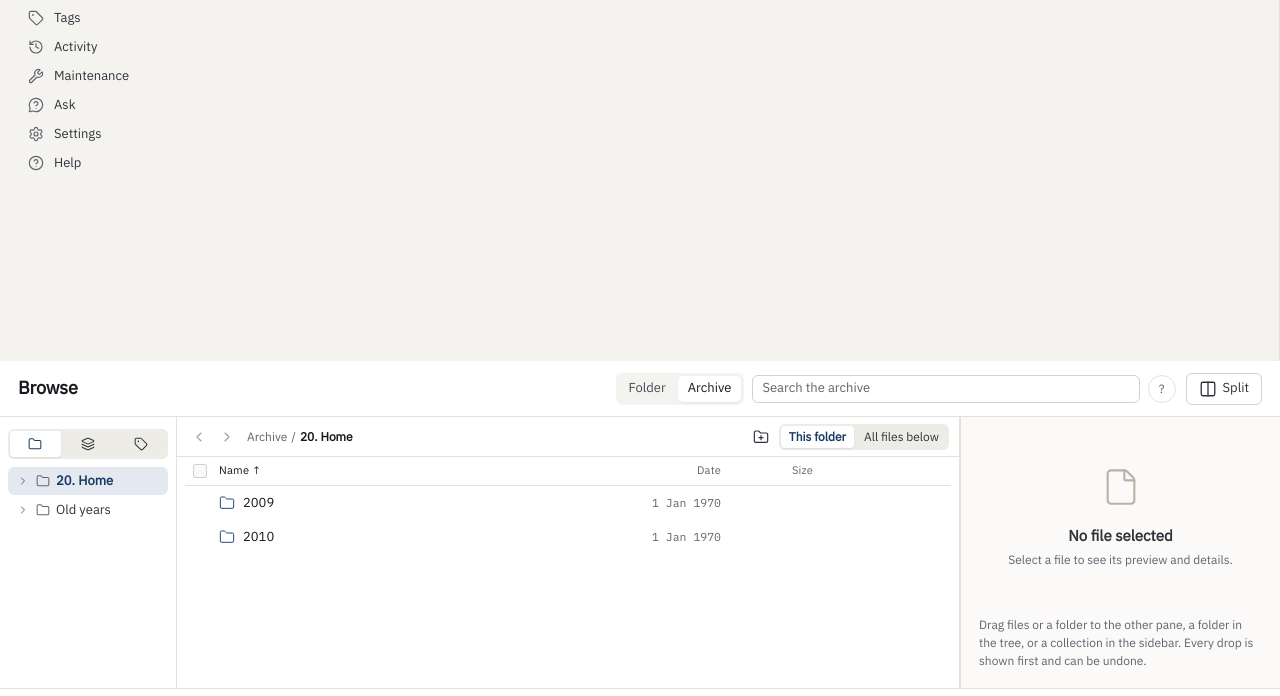
Scenario: moving a folder in Browse › the folder's panel has Rename…: it previews what follows and renames the folder in place
(page scrolled)
Expected: the text "2009" is shown, [243,494,274,512]
Press Arrowdown
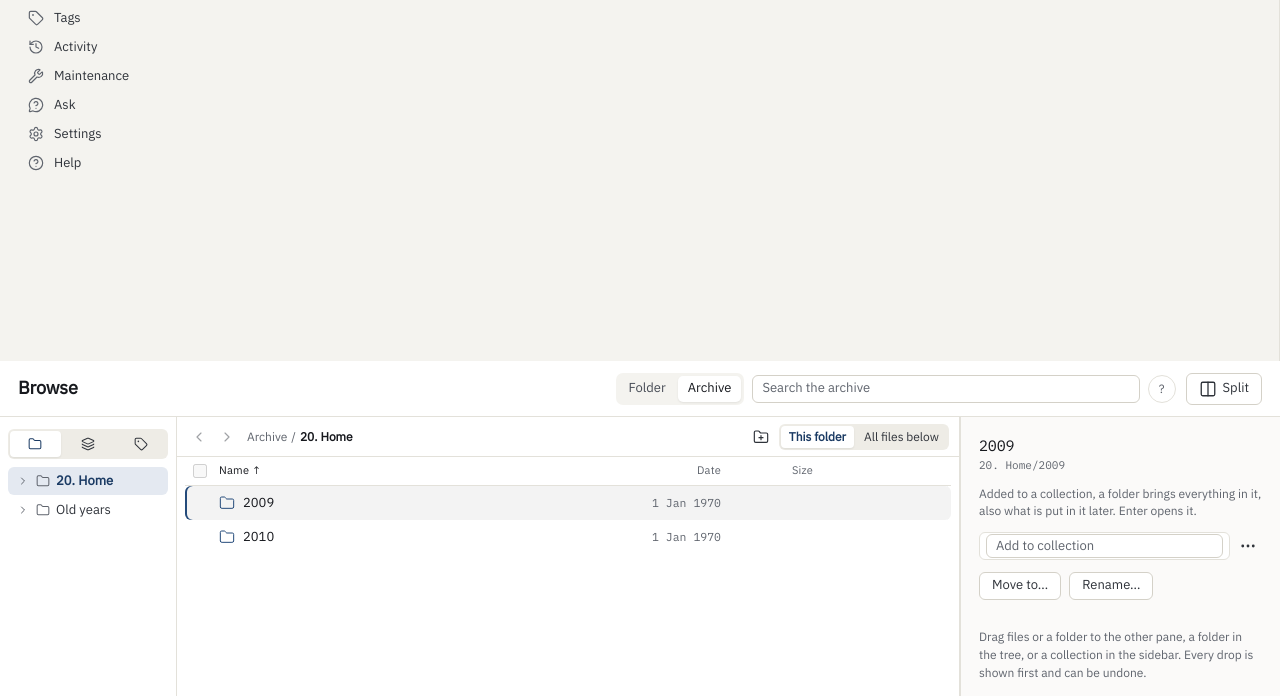
Click the button "Rename…" at (1111, 586), box [1069,572,1154,600]
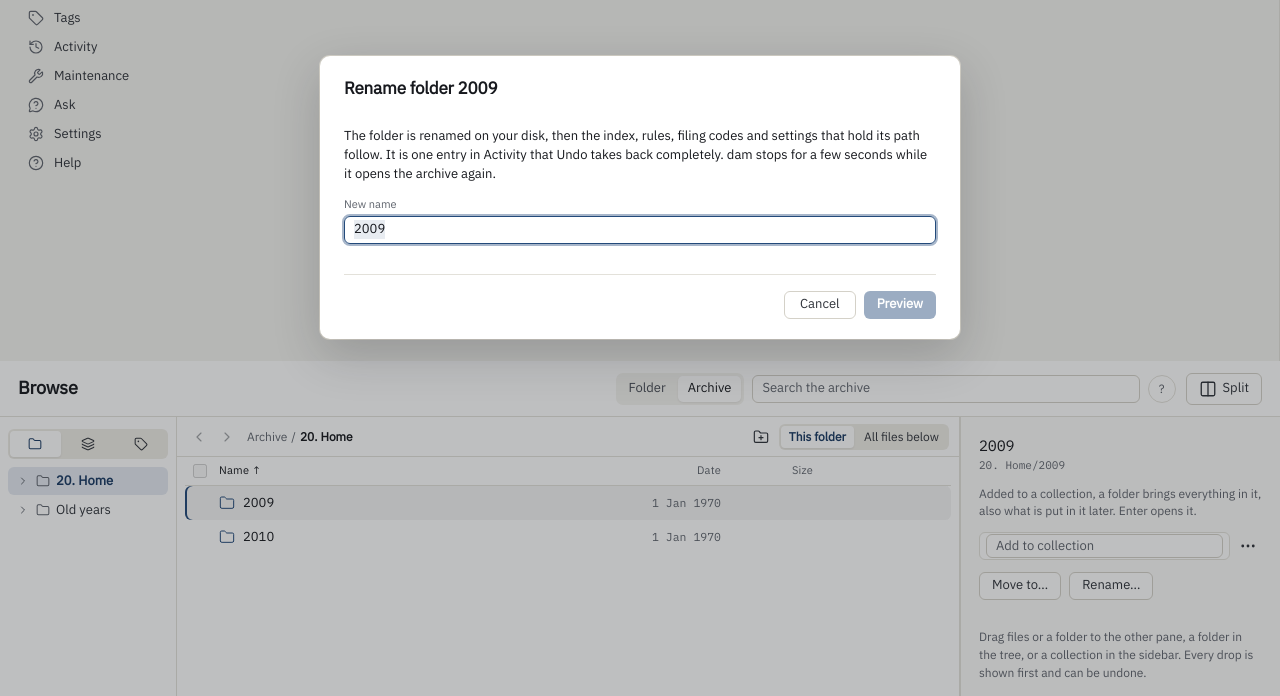
Replace the text in the field labelled "New name" with "2010" at (640, 230), box [344,216,936,244]
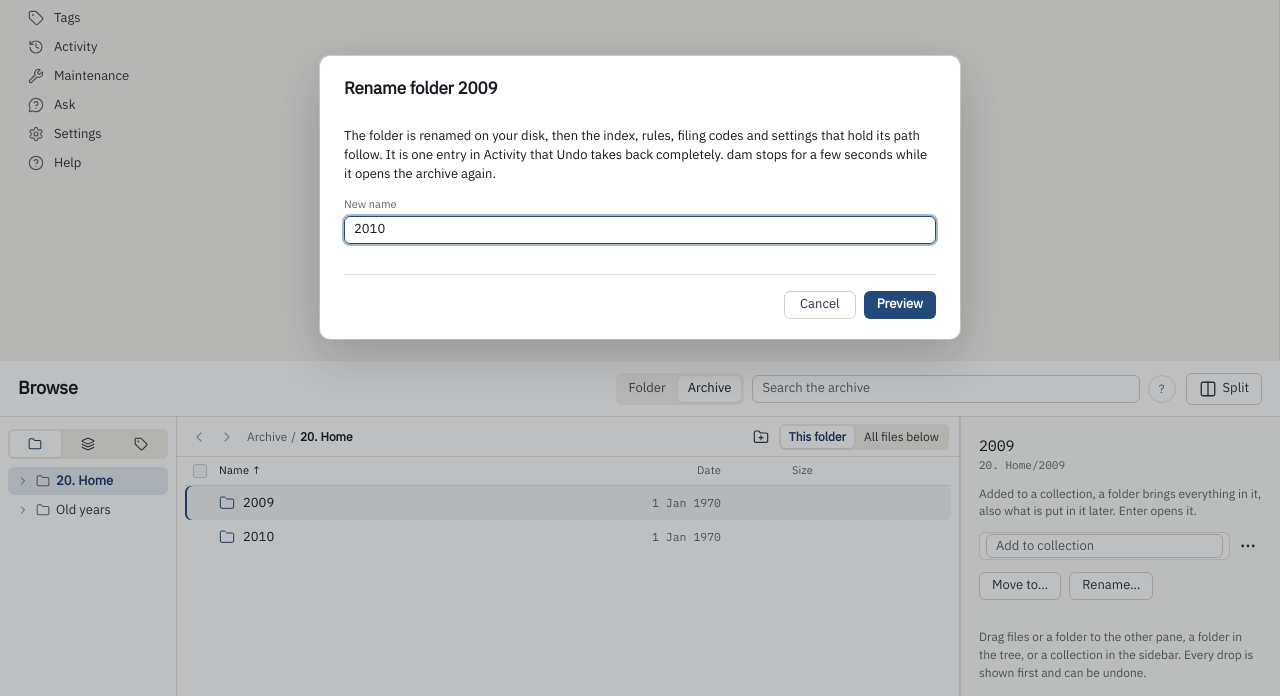
Click the button "Preview" at (900, 305), box [864,291,936,319]
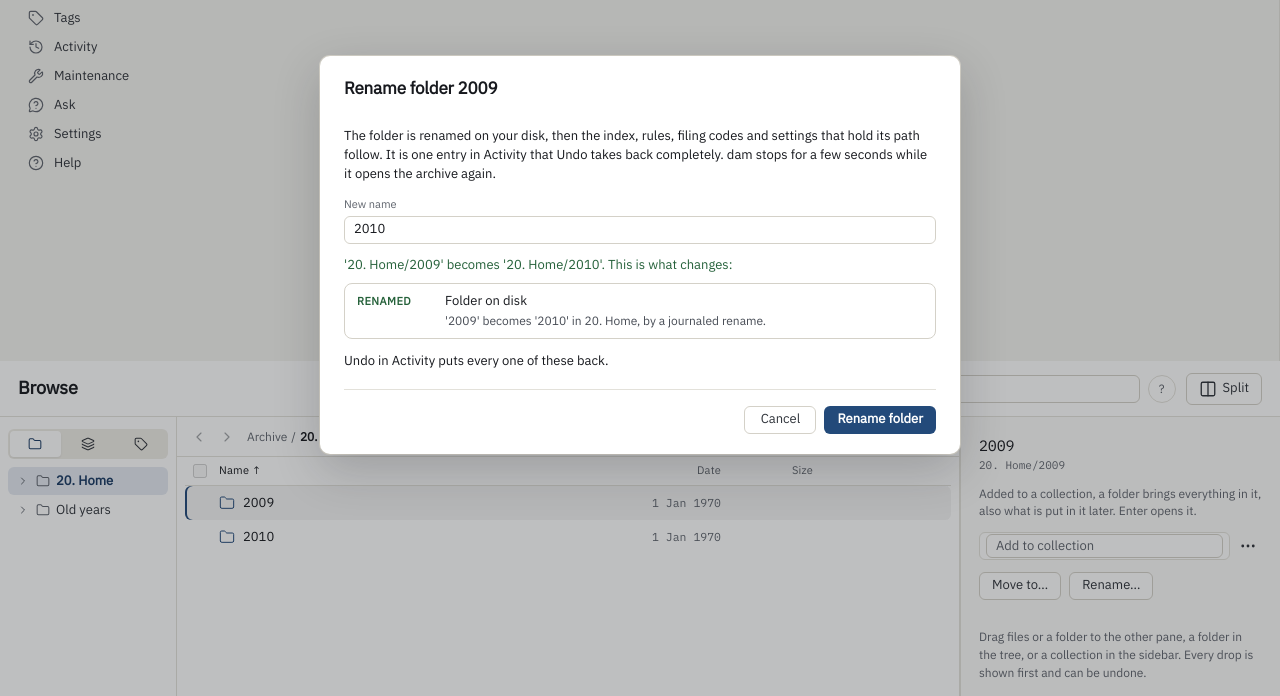
Expected: the list named "What changes" is shown, [344,282,936,339]
Click the button "Rename folder" at (880, 420), box [824,406,936,434]
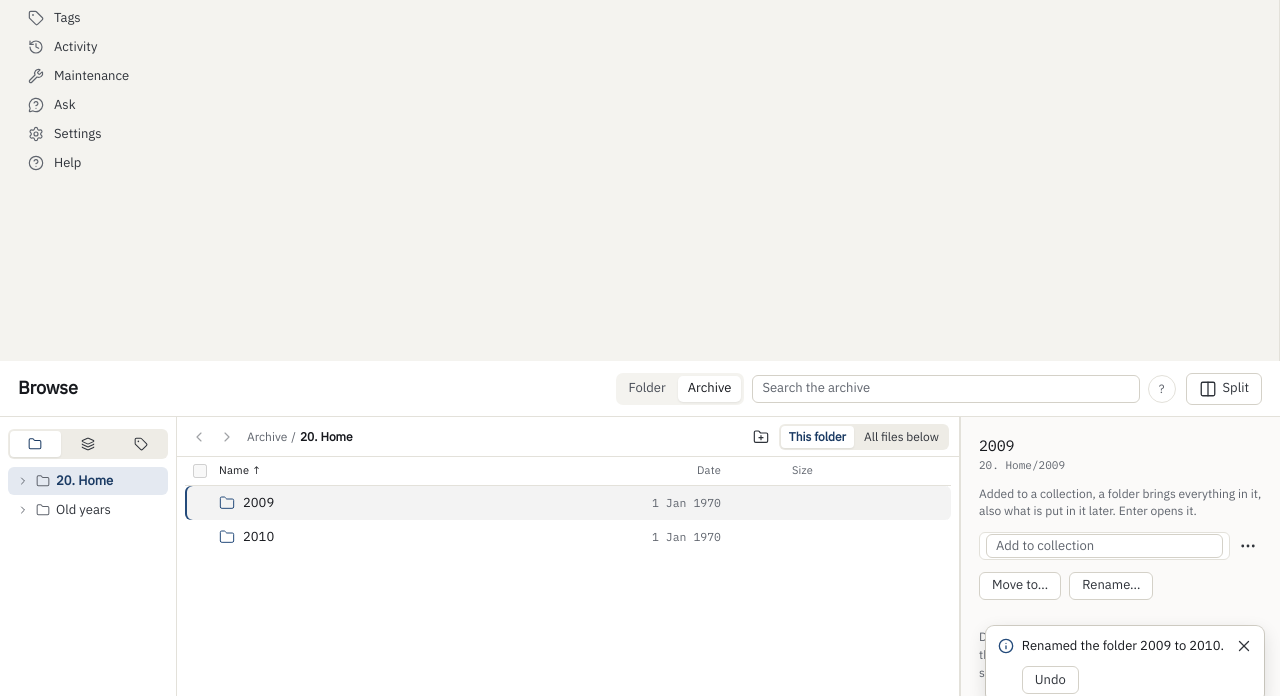
Expected: the text "Renamed the folder 2009 to 2010." is shown, [1022,637,1224,655]
